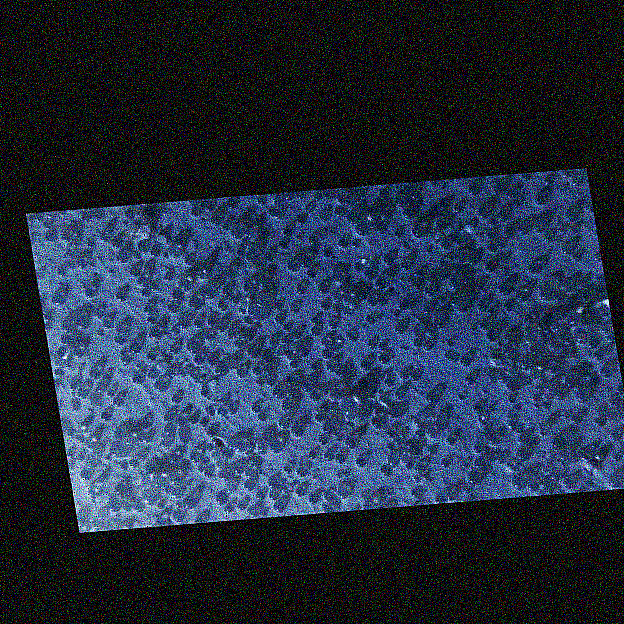GrassBeadSeg: (248, 307, 267, 321), (108, 445, 127, 458), (573, 328, 589, 343), (72, 315, 89, 329), (563, 313, 581, 326), (447, 295, 465, 308), (538, 287, 554, 301), (510, 476, 526, 490), (354, 222, 371, 235), (213, 364, 229, 377), (142, 492, 157, 505), (373, 277, 389, 289), (517, 358, 533, 370), (392, 195, 408, 207), (516, 449, 532, 461), (241, 283, 258, 294), (410, 227, 427, 238), (200, 288, 217, 299), (285, 374, 302, 385), (467, 472, 481, 485), (289, 425, 304, 437), (187, 298, 202, 310), (153, 380, 168, 392), (280, 401, 295, 413), (294, 345, 309, 357), (452, 252, 467, 264), (297, 257, 313, 268), (267, 208, 283, 219), (563, 211, 579, 222), (229, 440, 245, 451), (525, 264, 542, 274), (182, 497, 196, 509), (575, 391, 589, 403), (214, 493, 228, 505), (607, 475, 621, 487), (370, 418, 385, 429), (50, 295, 65, 306), (170, 511, 185, 522), (532, 195, 547, 206), (268, 442, 283, 453), (222, 269, 237, 280), (177, 280, 192, 291), (550, 438, 565, 449), (447, 279, 462, 290), (561, 282, 576, 293), (432, 318, 447, 329), (255, 277, 271, 287), (443, 352, 459, 362), (379, 465, 392, 477), (320, 349, 334, 360), (277, 418, 291, 429), (127, 343, 141, 354), (230, 228, 244, 239), (514, 291, 528, 302), (141, 208, 155, 219), (362, 270, 377, 280), (497, 286, 512, 296), (271, 388, 286, 398), (335, 368, 350, 378), (547, 341, 562, 351), (328, 390, 343, 400), (385, 456, 400, 466), (245, 347, 260, 357), (398, 301, 413, 311), (131, 374, 144, 385), (562, 478, 575, 489), (272, 502, 285, 513), (344, 438, 357, 449), (107, 501, 120, 512), (501, 346, 514, 357), (245, 228, 258, 239), (176, 318, 189, 329), (551, 470, 564, 481), (358, 360, 372, 370), (484, 332, 498, 342), (425, 393, 439, 403), (324, 363, 338, 373), (401, 209, 415, 219), (422, 287, 436, 297), (131, 503, 145, 513), (424, 326, 438, 336), (337, 488, 351, 498), (550, 323, 564, 333), (501, 229, 515, 239), (505, 382, 519, 392), (218, 470, 232, 480), (527, 369, 542, 378), (298, 383, 313, 392), (477, 208, 489, 219), (517, 224, 529, 235), (166, 302, 178, 313), (393, 324, 406, 334), (458, 357, 471, 367), (381, 256, 394, 266), (472, 444, 485, 454), (205, 356, 218, 366), (243, 481, 256, 491), (76, 389, 89, 399), (293, 487, 306, 497), (561, 245, 574, 255), (167, 454, 180, 464), (425, 428, 438, 438), (232, 339, 245, 349), (187, 452, 200, 462), (88, 370, 101, 380), (421, 341, 434, 351), (516, 434, 529, 444), (398, 261, 411, 271), (149, 329, 162, 339), (413, 464, 426, 474), (168, 248, 181, 258), (495, 213, 508, 223), (224, 483, 237, 493), (500, 302, 514, 311), (426, 276, 440, 285), (362, 501, 376, 510), (286, 262, 297, 273), (346, 214, 357, 225), (99, 412, 111, 422), (592, 351, 604, 361), (468, 186, 480, 196), (365, 297, 377, 307), (210, 216, 222, 226), (295, 215, 307, 225), (497, 373, 509, 383), (137, 277, 149, 287), (503, 334, 515, 344), (408, 446, 420, 456), (557, 450, 569, 460), (115, 253, 127, 263), (187, 343, 199, 353), (488, 435, 500, 445), (474, 459, 486, 469), (333, 455, 346, 464), (171, 292, 184, 301), (393, 391, 406, 400), (220, 450, 233, 459), (478, 321, 491, 330), (214, 324, 227, 333), (225, 201, 238, 210), (112, 431, 125, 440), (560, 169, 573, 178), (171, 490, 184, 499), (162, 426, 175, 435), (254, 262, 267, 271), (247, 509, 260, 518), (585, 340, 598, 349), (309, 392, 320, 402), (114, 485, 125, 495), (334, 207, 344, 218), (79, 470, 90, 480), (316, 436, 328, 445), (316, 285, 328, 294), (111, 398, 123, 407), (472, 405, 484, 414), (444, 436, 456, 445), (322, 452, 334, 461), (527, 483, 539, 492), (235, 369, 247, 378), (294, 468, 306, 477), (192, 356, 204, 365), (232, 465, 244, 474), (273, 315, 285, 324), (142, 306, 154, 315), (72, 349, 84, 358), (174, 417, 186, 426), (101, 320, 113, 329), (266, 479, 278, 488), (230, 354, 242, 363), (287, 390, 299, 399), (42, 222, 54, 231), (263, 366, 275, 375), (553, 391, 565, 400), (434, 495, 446, 504), (43, 234, 55, 243), (285, 352, 297, 361), (320, 339, 332, 348), (309, 328, 322, 336), (113, 337, 126, 345), (143, 465, 156, 473), (279, 337, 292, 345), (290, 331, 303, 339), (439, 242, 452, 250), (367, 373, 377, 383), (378, 354, 388, 364), (364, 315, 374, 325), (343, 295, 353, 305), (356, 290, 366, 300), (145, 353, 156, 362), (168, 346, 179, 355), (439, 459, 450, 468), (464, 375, 475, 384), (307, 496, 318, 505), (409, 372, 420, 381), (599, 369, 610, 378), (377, 342, 388, 351), (272, 303, 283, 312), (337, 239, 348, 248), (318, 213, 329, 222), (375, 225, 386, 234), (81, 213, 92, 222), (164, 370, 175, 379), (542, 177, 553, 186), (523, 316, 534, 325), (267, 338, 278, 347), (183, 257, 194, 266), (84, 440, 95, 449), (202, 333, 213, 342), (493, 187, 504, 196), (422, 306, 433, 315), (243, 333, 254, 342), (294, 287, 306, 295), (52, 369, 64, 377), (569, 417, 581, 425), (313, 414, 325, 422), (92, 311, 104, 319), (460, 485, 472, 493), (321, 425, 333, 433), (609, 433, 621, 441), (244, 470, 256, 478), (483, 265, 495, 273), (524, 336, 536, 344), (444, 492, 456, 500), (604, 412, 616, 420), (260, 433, 272, 441), (564, 380, 576, 388), (257, 413, 267, 422), (162, 414, 172, 423), (246, 442, 256, 451), (355, 457, 364, 467), (357, 379, 367, 388), (327, 320, 337, 329), (331, 304, 341, 313), (343, 307, 352, 317), (353, 263, 363, 272), (343, 405, 352, 415), (205, 429, 216, 437), (288, 361, 299, 369), (414, 430, 425, 438), (250, 405, 261, 413), (594, 419, 605, 427), (84, 290, 95, 298), (251, 367, 262, 375), (56, 269, 67, 277), (128, 270, 139, 278), (139, 289, 150, 297), (384, 430, 395, 438), (426, 446, 437, 454), (392, 436, 403, 444), (476, 304, 487, 312), (121, 504, 132, 512), (146, 372, 157, 380), (319, 387, 330, 395), (214, 461, 225, 469), (378, 190, 389, 198), (497, 256, 508, 264), (310, 318, 321, 326), (123, 211, 134, 219), (367, 340, 376, 349), (378, 298, 387, 307), (61, 233, 70, 242), (306, 269, 315, 278), (117, 327, 126, 336), (306, 451, 316, 459), (115, 293, 125, 301), (505, 396, 515, 404), (254, 379, 264, 387), (611, 454, 621, 462), (486, 244, 496, 252), (545, 417, 555, 425), (255, 492, 265, 500), (531, 394, 541, 402), (129, 460, 139, 468), (350, 240, 360, 248), (278, 241, 288, 249), (320, 302, 330, 310), (308, 237, 318, 245), (55, 349, 65, 357), (546, 451, 556, 459), (68, 382, 78, 390), (413, 418, 423, 426), (570, 179, 580, 187), (495, 455, 505, 463), (169, 476, 179, 484), (142, 435, 152, 443), (131, 429, 141, 437), (540, 481, 550, 489), (281, 325, 292, 332), (268, 493, 279, 500), (378, 396, 389, 403), (485, 308, 496, 315), (458, 462, 469, 469), (74, 455, 85, 462), (217, 408, 226, 416), (595, 408, 604, 416), (593, 253, 601, 262), (332, 295, 341, 303), (542, 235, 551, 243), (532, 225, 541, 233), (521, 173, 530, 181), (282, 228, 291, 236), (246, 254, 255, 262), (190, 208, 199, 216), (99, 234, 108, 242), (93, 212, 102, 220), (77, 260, 85, 269), (143, 264, 152, 272), (163, 273, 172, 281), (221, 287, 230, 295), (217, 302, 226, 310), (224, 505, 233, 513), (60, 337, 69, 345), (149, 249, 158, 257), (138, 245, 147, 253), (322, 251, 332, 258), (289, 306, 299, 313), (571, 255, 581, 262), (264, 255, 274, 262), (85, 241, 95, 248), (568, 227, 578, 234), (319, 404, 329, 411), (55, 361, 65, 368), (585, 205, 593, 213), (615, 386, 623, 394), (557, 227, 565, 235), (429, 180, 437, 188), (512, 200, 520, 208), (438, 201, 446, 209), (313, 193, 321, 201), (467, 258, 475, 266), (606, 335, 614, 343), (529, 347, 537, 355), (541, 401, 549, 409), (444, 340, 453, 347), (187, 417, 196, 424), (65, 430, 74, 437), (535, 384, 544, 391), (105, 391, 115, 397), (94, 387, 104, 393), (457, 394, 465, 401), (65, 451, 73, 458), (485, 232, 493, 239), (436, 223, 443, 231), (409, 192, 417, 199), (380, 211, 388, 218), (506, 191, 514, 198), (304, 206, 312, 213), (72, 229, 80, 236), (44, 314, 52, 321), (62, 325, 70, 332), (171, 398, 179, 405), (125, 439, 133, 446), (203, 471, 211, 478), (257, 447, 265, 454), (384, 379, 391, 387), (367, 386, 375, 393), (399, 372, 407, 379), (413, 340, 421, 347), (414, 331, 421, 339), (522, 285, 530, 292), (554, 295, 561, 303), (593, 294, 601, 301), (598, 308, 606, 315), (600, 326, 607, 334), (532, 328, 540, 335), (253, 323, 262, 329), (211, 453, 218, 460), (454, 205, 461, 212), (394, 231, 401, 238), (345, 201, 352, 208), (324, 193, 331, 200), (296, 193, 303, 200), (283, 193, 290, 200), (257, 198, 264, 205), (205, 204, 212, 211), (111, 241, 118, 248), (106, 224, 113, 231), (34, 216, 41, 223), (132, 252, 139, 259), (149, 283, 156, 290), (202, 266, 209, 273), (196, 272, 203, 279), (194, 321, 201, 328), (186, 313, 193, 320), (171, 327, 178, 334), (147, 317, 154, 324), (179, 371, 186, 378), (200, 390, 207, 397), (228, 407, 235, 414), (206, 409, 213, 416), (138, 454, 145, 461), (156, 502, 163, 509), (196, 465, 203, 472), (205, 444, 212, 451), (180, 438, 187, 445), (283, 466, 290, 473), (386, 443, 393, 450), (345, 333, 352, 340), (266, 379, 273, 386), (475, 283, 482, 290), (548, 367, 555, 374), (565, 338, 572, 345), (486, 373, 493, 380), (607, 398, 614, 405), (583, 455, 590, 462), (571, 455, 578, 462), (540, 466, 547, 473), (122, 357, 129, 364), (507, 423, 514, 430), (334, 472, 341, 478), (222, 224, 228, 231), (238, 308, 245, 314), (219, 399, 226, 405), (199, 420, 206, 426), (237, 504, 244, 510), (342, 471, 348, 478), (400, 449, 407, 455), (335, 277, 342, 283), (311, 364, 317, 371), (451, 267, 458, 273), (439, 273, 445, 280), (438, 296, 444, 303), (408, 277, 414, 284), (545, 384, 551, 391), (590, 442, 597, 448), (595, 453, 601, 460), (335, 437, 343, 442), (232, 299, 238, 305), (240, 301, 246, 307), (207, 319, 213, 325), (411, 491, 417, 497), (243, 318, 249, 324), (417, 270, 423, 276), (530, 470, 536, 476), (562, 413, 568, 419), (514, 427, 520, 433), (404, 464, 411, 469), (487, 221, 493, 226), (295, 235, 300, 241), (241, 240, 246, 246), (400, 458, 406, 463), (388, 413, 394, 418), (377, 375, 382, 381), (384, 371, 389, 377), (462, 279, 468, 284), (543, 394, 548, 400), (330, 230, 335, 235), (317, 235, 322, 240), (236, 252, 241, 257), (163, 254, 168, 259), (89, 263, 94, 268), (72, 242, 77, 247), (60, 212, 65, 217), (47, 214, 52, 219), (68, 265, 73, 270), (227, 335, 232, 340), (235, 332, 240, 337), (197, 380, 202, 385), (194, 368, 199, 373), (159, 442, 164, 447), (154, 482, 159, 487), (74, 436, 79, 441), (93, 454, 98, 459), (88, 492, 93, 497), (98, 515, 103, 520), (92, 524, 97, 529), (77, 522, 82, 527), (102, 376, 107, 381), (275, 351, 280, 356), (262, 357, 267, 362), (330, 407, 335, 412), (578, 282, 583, 287), (595, 280, 600, 285), (539, 432, 544, 437), (507, 463, 512, 468), (510, 467, 515, 472), (136, 364, 141, 369), (427, 477, 432, 482), (481, 289, 487, 293), (554, 238, 558, 243), (497, 244, 502, 248), (97, 332, 101, 337), (175, 503, 180, 507), (105, 456, 110, 460), (91, 501, 96, 505), (114, 514, 119, 518), (88, 407, 92, 412), (320, 504, 325, 508), (377, 390, 382, 394), (393, 313, 398, 317), (425, 249, 430, 253), (479, 421, 484, 425), (507, 415, 512, 419), (430, 414, 434, 419), (462, 447, 466, 452), (546, 250, 550, 254), (454, 240, 458, 244), (359, 194, 363, 198), (355, 199, 359, 203), (186, 482, 190, 486), (360, 496, 364, 500), (386, 492, 390, 496), (413, 477, 417, 481), (423, 476, 427, 480), (333, 432, 337, 436), (621, 415, 623, 422), (134, 236, 138, 239), (131, 229, 134, 233), (163, 490, 167, 493), (431, 229, 434, 232), (431, 238, 434, 241), (240, 257, 243, 260), (166, 269, 169, 272), (141, 234, 144, 237), (82, 287, 85, 290), (80, 282, 83, 285), (214, 399, 217, 402), (224, 417, 227, 420), (161, 436, 164, 439), (165, 445, 168, 448), (143, 426, 146, 429), (121, 467, 124, 470), (73, 409, 76, 412), (245, 452, 248, 455), (249, 461, 252, 464), (279, 481, 282, 484), (284, 492, 287, 495), (286, 489, 289, 492), (288, 492, 291, 495), (299, 459, 302, 462), (390, 356, 393, 359), (377, 317, 380, 320), (416, 318, 419, 321), (470, 327, 473, 330), (138, 439, 141, 442), (434, 241, 436, 244), (64, 257, 66, 260), (62, 255, 65, 257), (207, 397, 209, 400), (97, 404, 99, 407), (139, 473, 141, 476), (414, 316, 416, 319), (194, 381, 197, 383), (186, 371, 189, 373)
